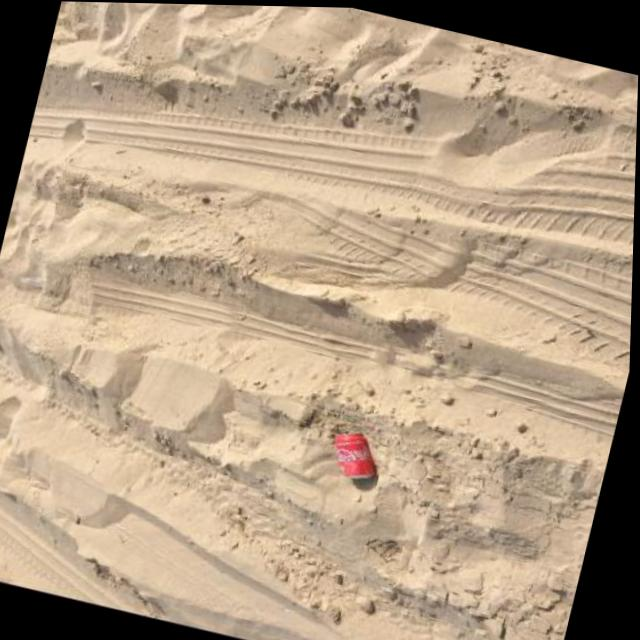metal: (326, 429, 384, 485)
